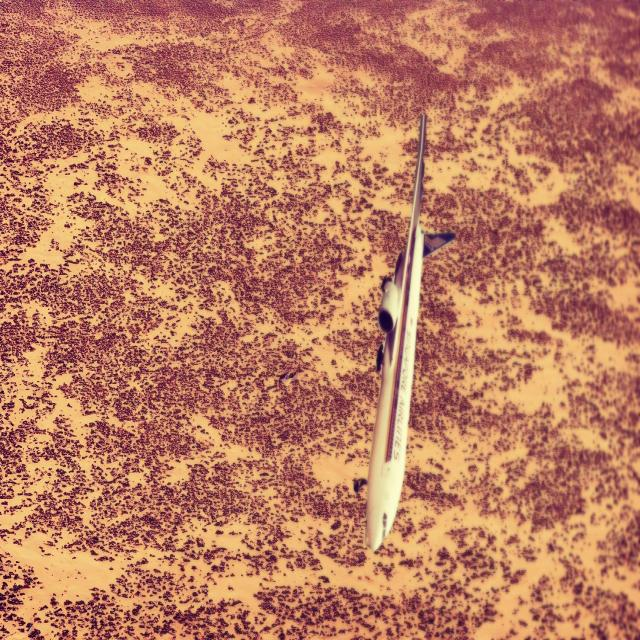airplane: (364, 112, 455, 553)
